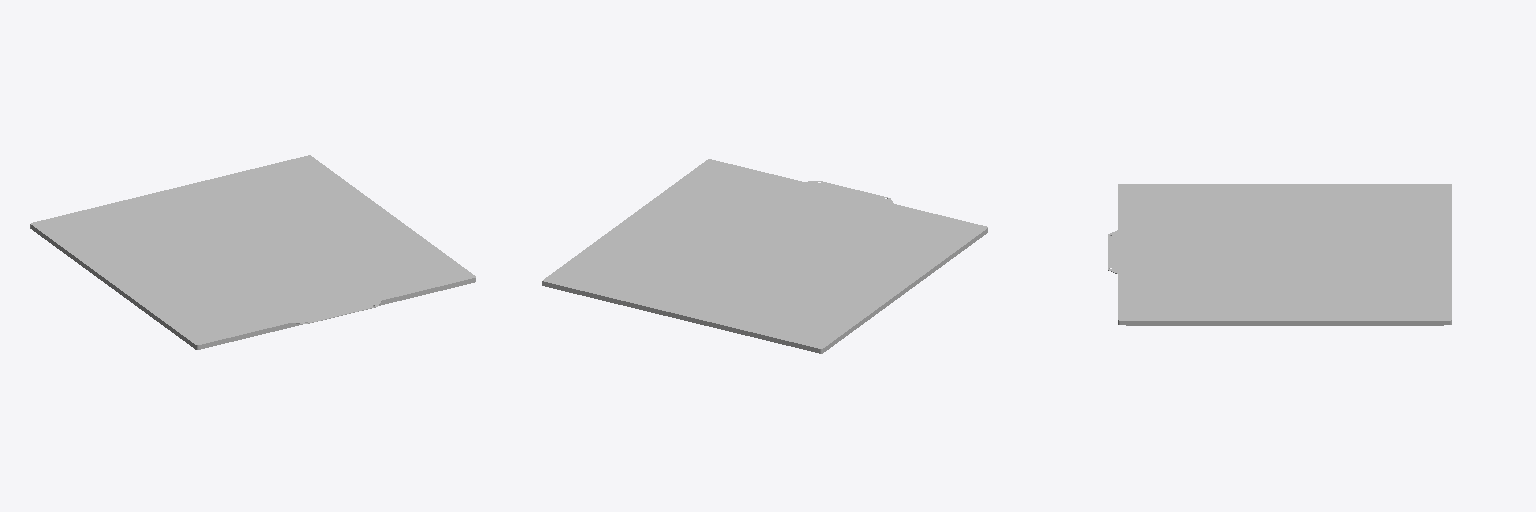
The model's file is bed_obj.obj.
The picture shows the model from 3 angles: view 1: azimuth 30°, elevation 25°; view 2: azimuth 150°, elevation 25°; view 3: azimuth 270°, elevation 25°; orthographic projection.
Parts seen in each view (by area): view 1: object3, object1; view 2: object3, object1, object2; view 3: object3, object1, object2.
Boxes of the visible parts, box(x1,y1,x2,y2) form: object3: box(31, 155, 475, 345); object1: box(30, 226, 475, 349); object3: box(543, 159, 987, 349); object1: box(542, 230, 987, 353); object2: box(542, 229, 987, 350); object3: box(1108, 184, 1451, 320); object1: box(1118, 322, 1451, 325); object2: box(1118, 321, 1451, 322).
Bounding box in the file's own units: 310 × 8 × 330.